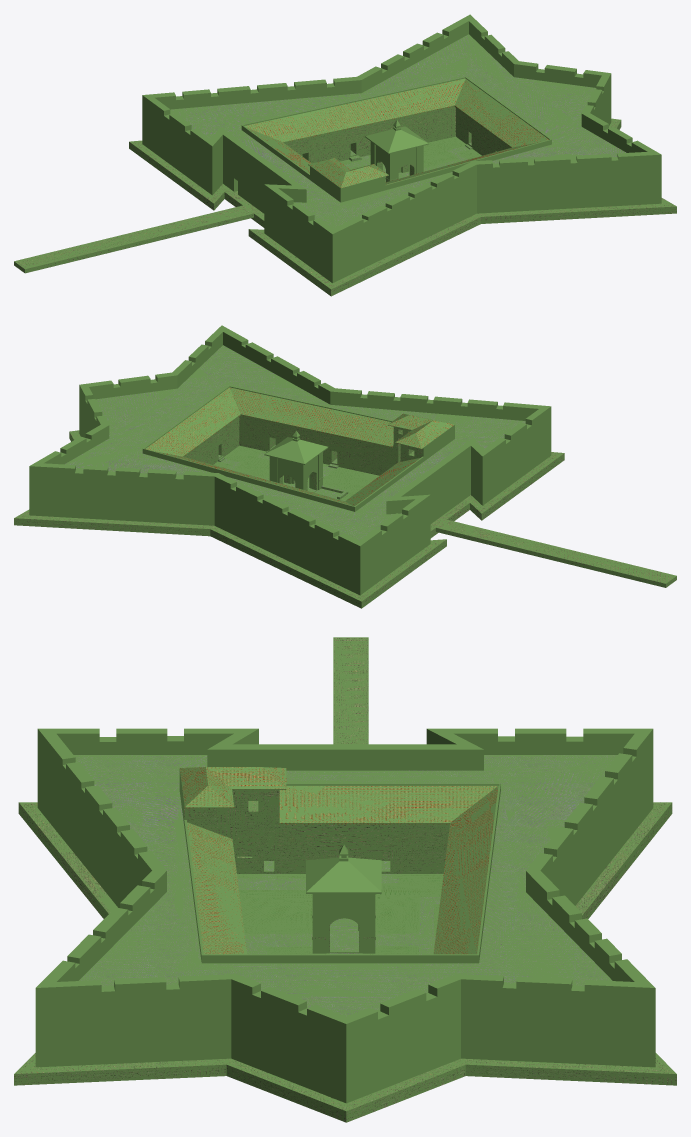
The model's file is forte_reis_magos.fbx.
The picture shows the model from 3 angles, top to bottom: view 1: azimuth 30°, elevation 25°; view 2: azimuth 150°, elevation 25°; view 3: azimuth 270°, elevation 25°; orthographic projection. The views are drawn at different scales.
Visible parts, largest first — view 1: SketchUp; view 2: SketchUp; view 3: SketchUp.
Boxes of the visible parts, x1=… form: SketchUp: x1=14, y1=14, x2=676, y2=296; SketchUp: x1=14, y1=325, x2=676, y2=608; SketchUp: x1=14, y1=637, x2=676, y2=1122.
Size of the model in its own units: 1786 by 183 by 1055.
4 materials, 4 textured.
